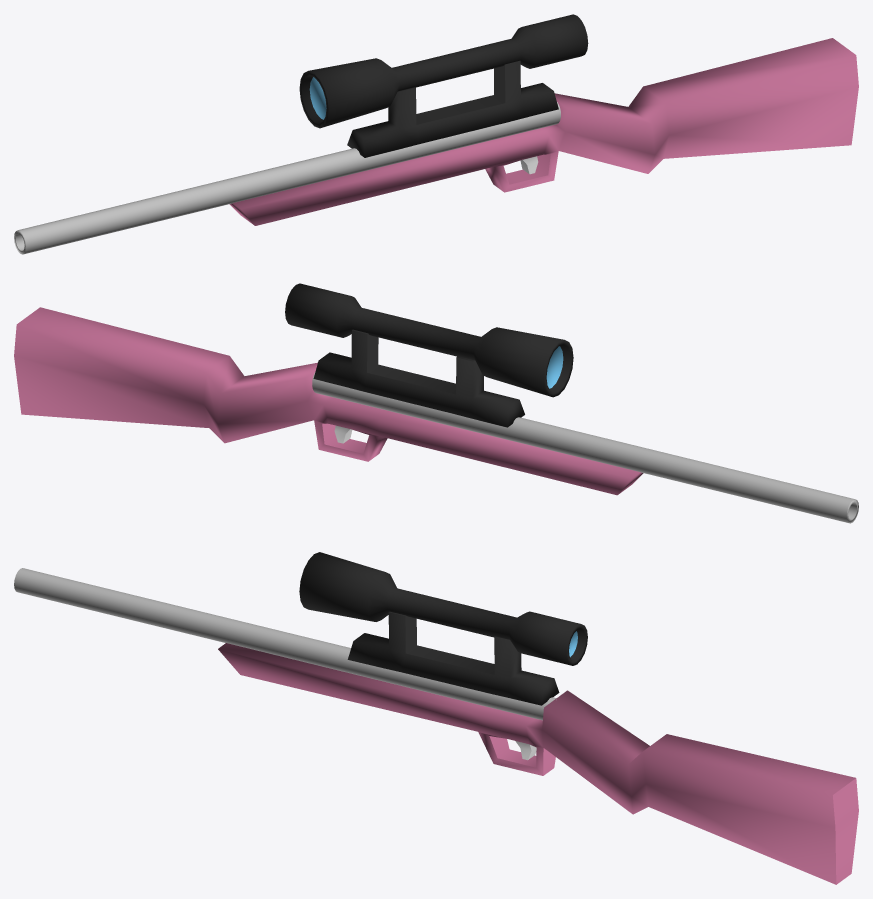
The model's file is sniper.fbx.
3 views of the same model, one above another, from view 1: azimuth 30°, elevation 25°; view 2: azimuth 150°, elevation 25°; view 3: azimuth 330°, elevation 25° (orthographic).
Parts seen in each view (by area): view 1: Cube, Cylinder, Cylinder.001, Cube.001; view 2: Cube, Cylinder, Cylinder.001, Cube.001; view 3: Cube, Cylinder, Cylinder.001, Cube.001.
Boxes of the visible parts, x1,y1,x2,y2 form: Cube: (229,38,858,225); Cylinder: (14,102,560,254); Cylinder.001: (299,14,588,128); Cube.001: (347,60,558,157); Cube: (14,307,643,495); Cylinder: (312,372,858,523); Cylinder.001: (285,283,573,397); Cube.001: (313,329,524,427); Cube: (218,643,858,884); Cylinder: (14,568,556,720); Cylinder.001: (299,552,587,665); Cube.001: (347,611,559,705).
Bounding box in the file's own units: 673 × 153 × 41.59.
